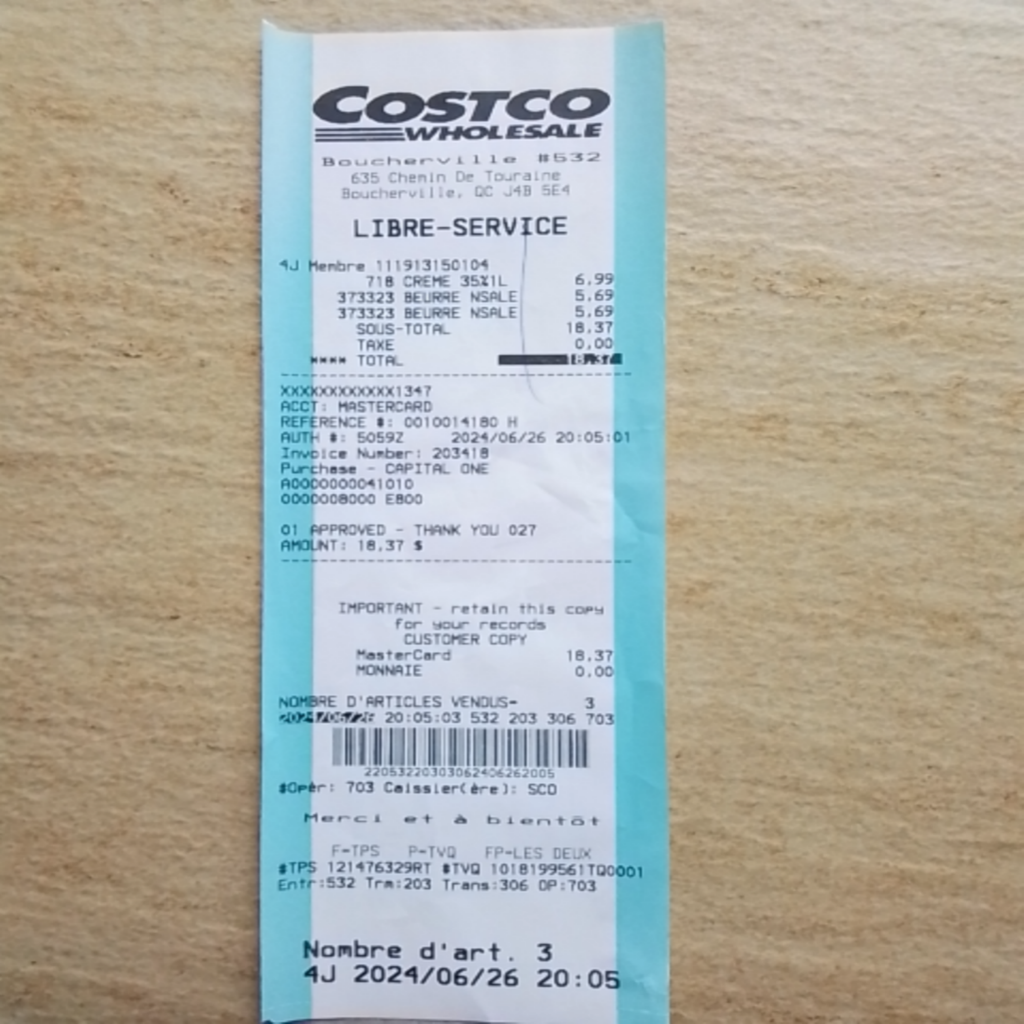recipt: (262, 15, 669, 1020)
